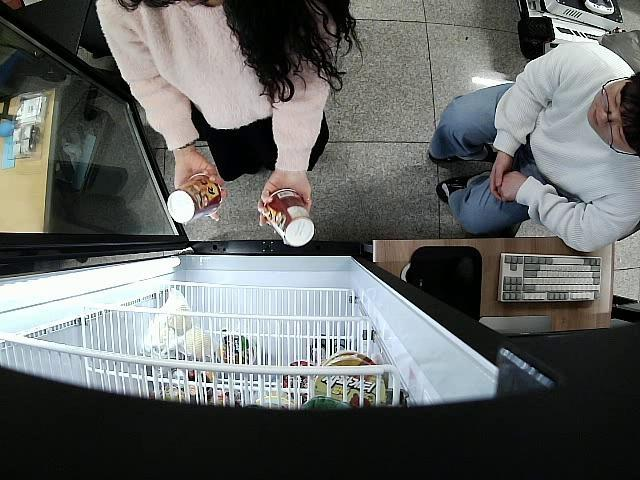06_nuguri_S: (260, 188, 314, 246), (168, 174, 221, 226)
